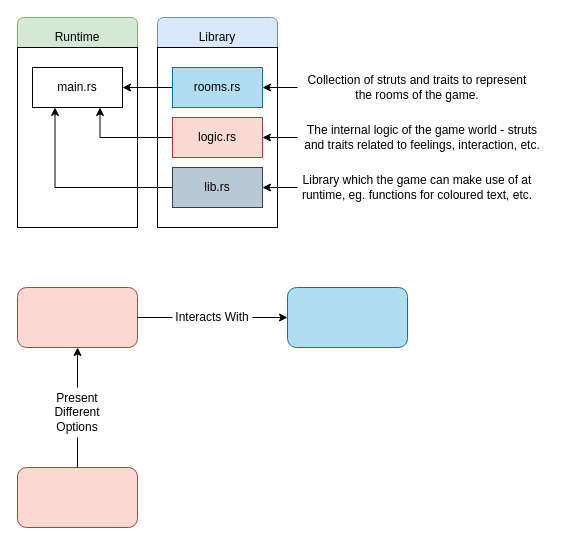
This 565x545 diagram has some shape labels left out. The shapes that lost their labels are listed below. From the top down, each one's box as (x1, y1, x2, y2) in pixels, then its label:
(16, 286, 138, 348): Player
(286, 286, 408, 348): Rooms
(16, 466, 138, 528): Feelings
